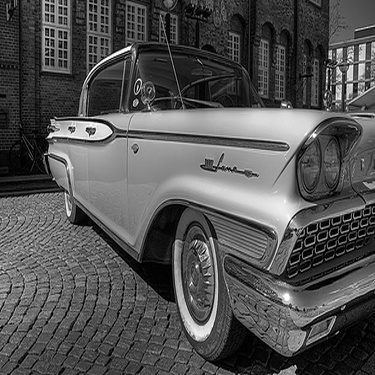car: (44, 32, 364, 344)
